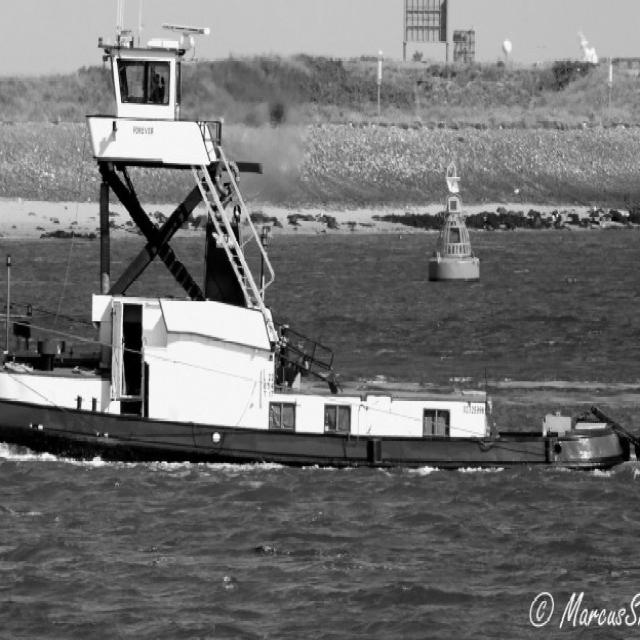tugboat: (1, 18, 640, 482)
